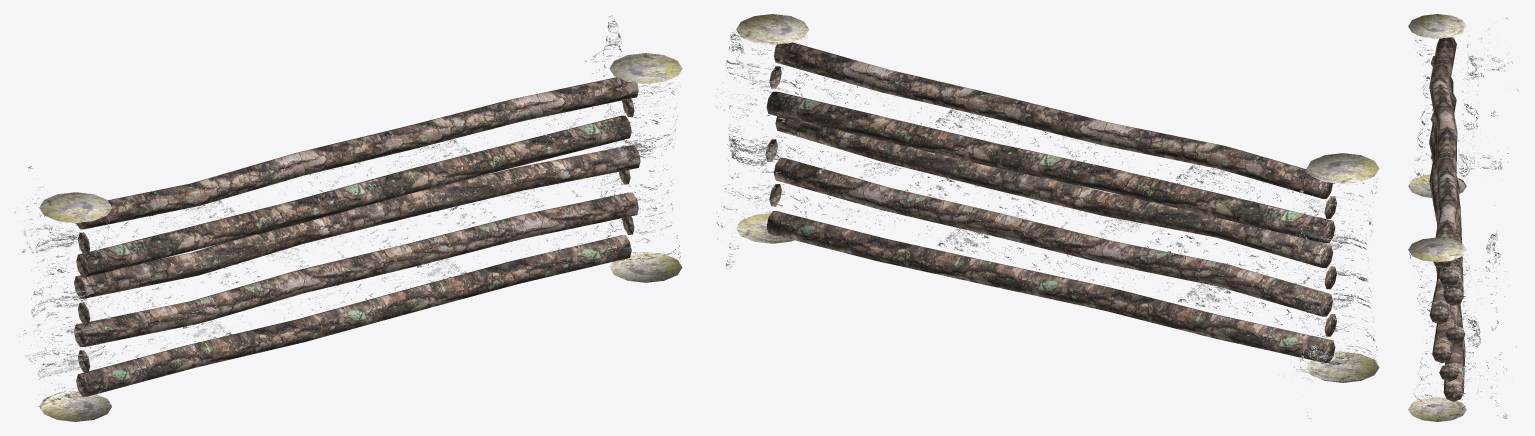
The model's file is Normal_1.fbx.
3 renders of one model, left to right at view 1: azimuth 30°, elevation 25°; view 2: azimuth 150°, elevation 25°; view 3: azimuth 270°, elevation 25°, orthographic. The views are drawn at different scales.
Visible parts, largest first — view 1: Normal_1; view 2: Normal_1; view 3: Normal_1.
Part boxes in pixels (x1,y1,x2,y2): Normal_1: [14, 15, 682, 421]; Normal_1: [715, 14, 1379, 419]; Normal_1: [1408, 14, 1518, 421].
Size of the model in its own units: 8 by 3.07 by 1.54.
